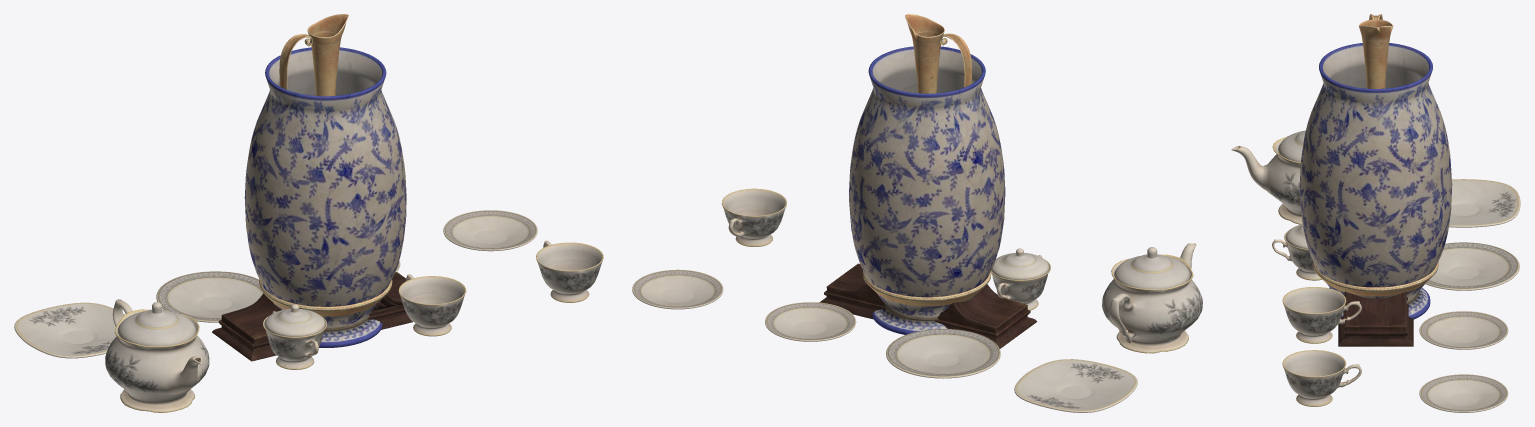
The model's file is store.glb.
The picture shows the model from 3 angles, left to right: view 1: azimuth 30°, elevation 25°; view 2: azimuth 150°, elevation 25°; view 3: azimuth 270°, elevation 25°; orthographic projection. The views are drawn at different scales.
Parts seen in each view (by area): view 1: antique_ceramic_vase_01, tea_set_01_teapot_01, tea_set_01_plate_large_square_01, tea_set_01_plate_large_circular_03, brass_vase_02, mantel_clock_01, tea_set_01_cup_small_01, tea_set_01_cup_small_02, tea_set_01_saucer_circular_03, tea_set_01_teapot_01_lid, tea_set_01_sugar_cup_01, tea_set_01_sugar_cup_01_lid; view 2: antique_ceramic_vase_01, tea_set_01_teapot_01, mantel_clock_01, tea_set_01_plate_large_square_01, tea_set_01_plate_large_circular_03, brass_vase_02, tea_set_01_cup_small_02, tea_set_01_saucer_circular_04, tea_set_01_saucer_circular_03, tea_set_01_teapot_01_lid, tea_set_01_sugar_cup_01_lid, tea_set_01_sugar_cup_01; view 3: antique_ceramic_vase_01, mantel_clock_01, tea_set_01_plate_large_circular_03, tea_set_01_plate_large_square_01, tea_set_01_cup_small_02, tea_set_01_cup_small_01, brass_vase_02, tea_set_01_saucer_circular_04, tea_set_01_saucer_circular_03, tea_set_01_teapot_01, tea_set_01_sugar_cup_01, tea_set_01_teapot_01_lid (+1 smaller).
Part boxes in pixels (<box>): antique_ceramic_vase_01: <box>244,47,406,347</box>; tea_set_01_teapot_01: <box>105,299,209,412</box>; tea_set_01_plate_large_square_01: <box>14,302,125,358</box>; tea_set_01_plate_large_circular_03: <box>156,271,262,322</box>; brass_vase_02: <box>259,14,392,316</box>; mantel_clock_01: <box>212,272,412,361</box>; tea_set_01_cup_small_01: <box>398,274,466,336</box>; tea_set_01_cup_small_02: <box>536,240,603,302</box>; tea_set_01_saucer_circular_03: <box>443,210,537,251</box>; tea_set_01_teapot_01_lid: <box>117,302,196,346</box>; tea_set_01_sugar_cup_01: <box>263,311,327,369</box>; tea_set_01_sugar_cup_01_lid: <box>264,304,325,336</box>; antique_ceramic_vase_01: <box>849,46,1005,334</box>; tea_set_01_teapot_01: <box>1102,243,1202,353</box>; mantel_clock_01: <box>819,263,1036,348</box>; tea_set_01_plate_large_square_01: <box>1014,359,1137,412</box>; tea_set_01_plate_large_circular_03: <box>886,329,1000,378</box>; brass_vase_02: <box>862,14,991,306</box>; tea_set_01_cup_small_02: <box>721,188,786,246</box>; tea_set_01_saucer_circular_04: <box>765,302,856,341</box>; tea_set_01_saucer_circular_03: <box>632,269,723,309</box>; tea_set_01_teapot_01_lid: <box>1114,247,1190,289</box>; tea_set_01_sugar_cup_01_lid: <box>991,248,1049,279</box>; tea_set_01_sugar_cup_01: <box>991,255,1050,310</box>; antique_ceramic_vase_01: <box>1299,43,1452,319</box>; mantel_clock_01: <box>1338,291,1413,346</box>; tea_set_01_plate_large_circular_03: <box>1425,242,1519,290</box>; tea_set_01_plate_large_square_01: <box>1449,179,1520,227</box>; tea_set_01_cup_small_02: <box>1282,350,1361,406</box>; tea_set_01_cup_small_01: <box>1282,287,1361,343</box>; brass_vase_02: <box>1313,14,1438,296</box>; tea_set_01_saucer_circular_04: <box>1419,311,1508,349</box>; tea_set_01_saucer_circular_03: <box>1419,374,1508,412</box>; tea_set_01_teapot_01: <box>1231,136,1302,224</box>; tea_set_01_sugar_cup_01: <box>1272,229,1321,280</box>; tea_set_01_teapot_01_lid: <box>1278,130,1305,162</box>.
Size of the model in its own units: 0.9185 by 0.5299 by 0.4839.
7 materials, 7 textured.
